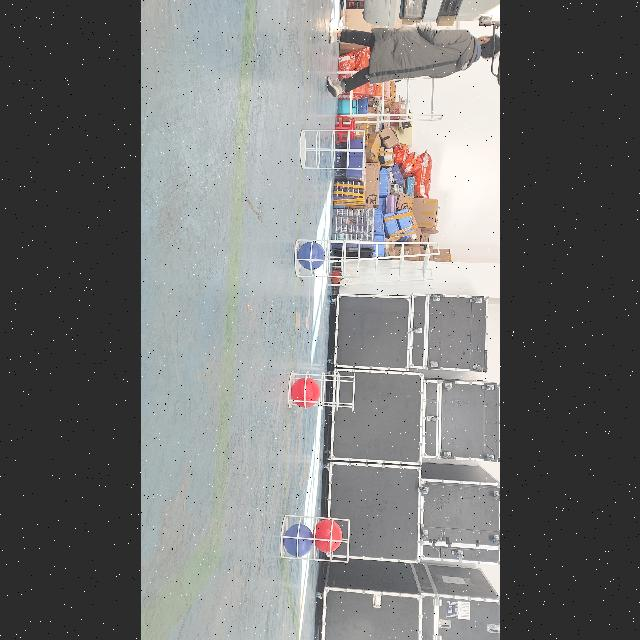B: (283, 521, 313, 557), (298, 240, 324, 272)
R: (290, 375, 320, 409), (313, 520, 342, 552)
S: (279, 513, 353, 567), (296, 124, 368, 174), (288, 368, 358, 417), (293, 236, 363, 284)
